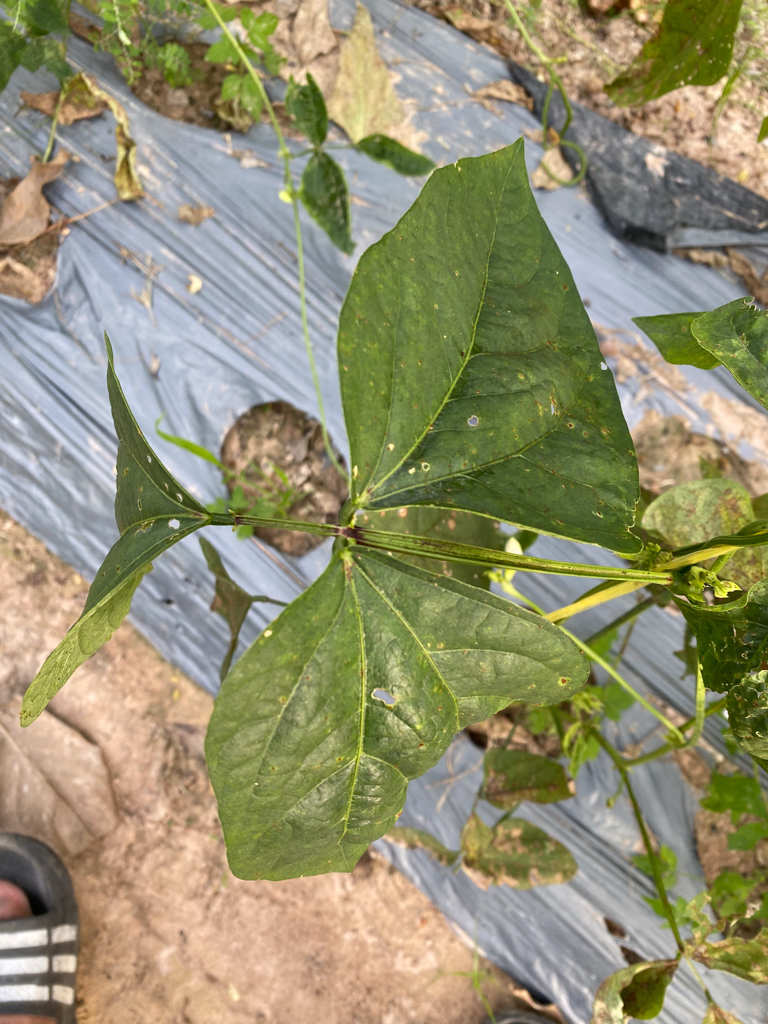Canker: (372, 359, 615, 492), (292, 618, 576, 720), (116, 458, 189, 544)
